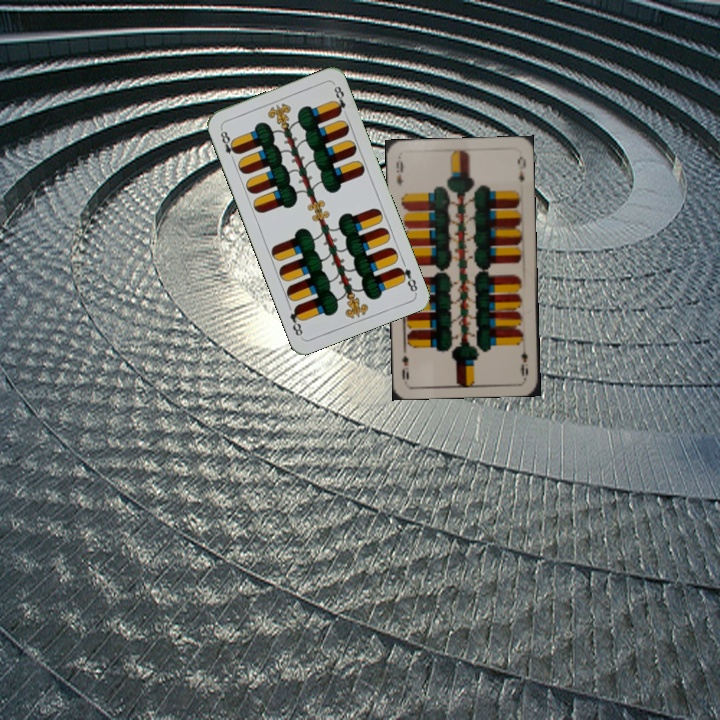E8: (216, 124, 241, 164), (393, 263, 420, 295)
E9: (517, 339, 531, 379), (392, 154, 406, 188)
